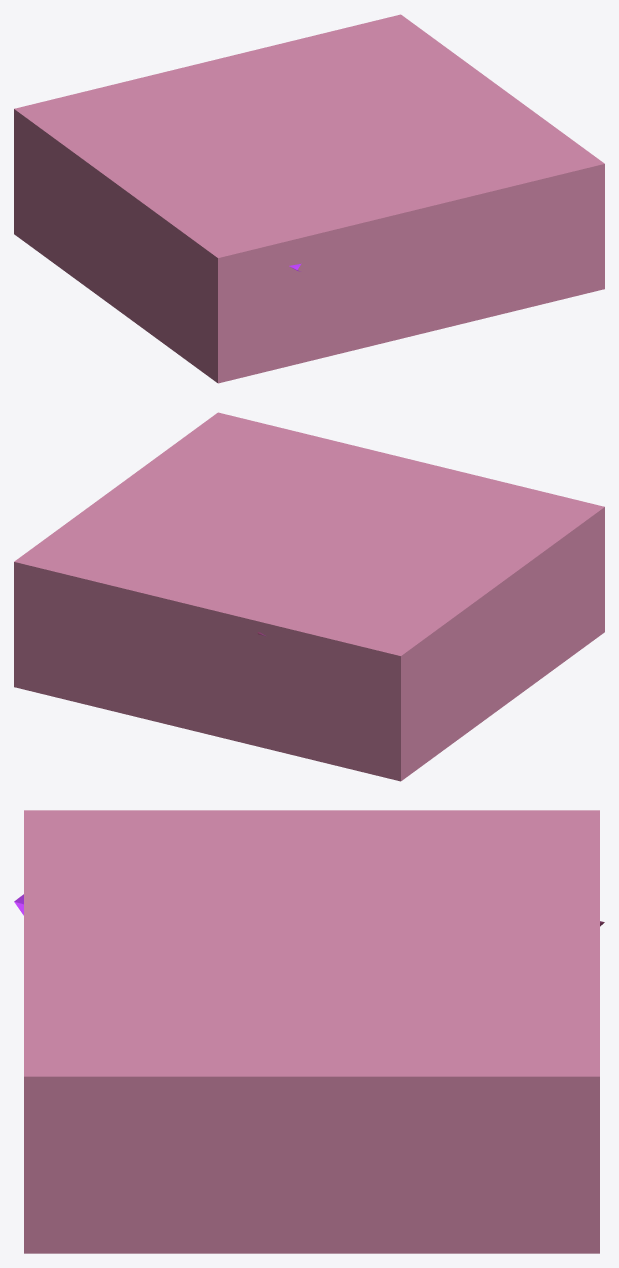
The model's file is lush_ferns_02_a.dae.
The picture shows the model from 3 angles, top to bottom: view 1: azimuth 30°, elevation 25°; view 2: azimuth 150°, elevation 25°; view 3: azimuth 270°, elevation 25°; orthographic projection. The views are drawn at different scales.
Visible parts, largest first — view 1: Untitled; view 2: Untitled; view 3: Untitled.
Part boxes in pixels (box(x1,y1,x2,y2)): Untitled: box(14, 14, 604, 383); Untitled: box(14, 412, 604, 781); Untitled: box(24, 810, 599, 1253).
Size of the model in its own units: 1.24 by 1.16 by 0.3983.
